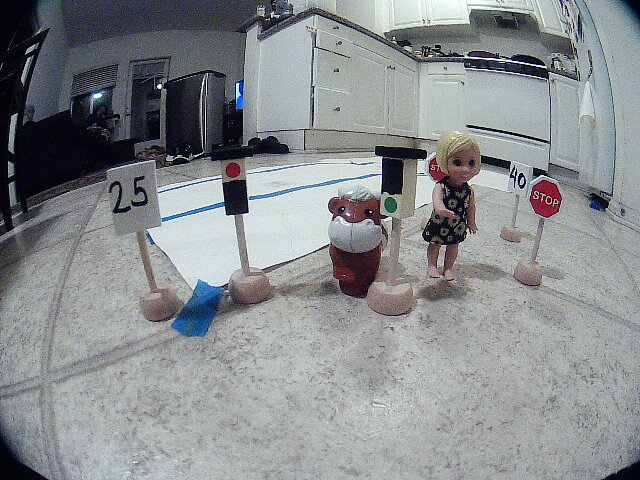Cow: (312, 177, 375, 298)
Green Traffic Light: (367, 148, 427, 217)
Person: (429, 130, 492, 310)
Red Traffic Light: (199, 148, 277, 225)
Speed Limit 25: (95, 169, 176, 242)
Speed Limit 40: (507, 162, 531, 198)
Stop Sign: (529, 179, 566, 220)
